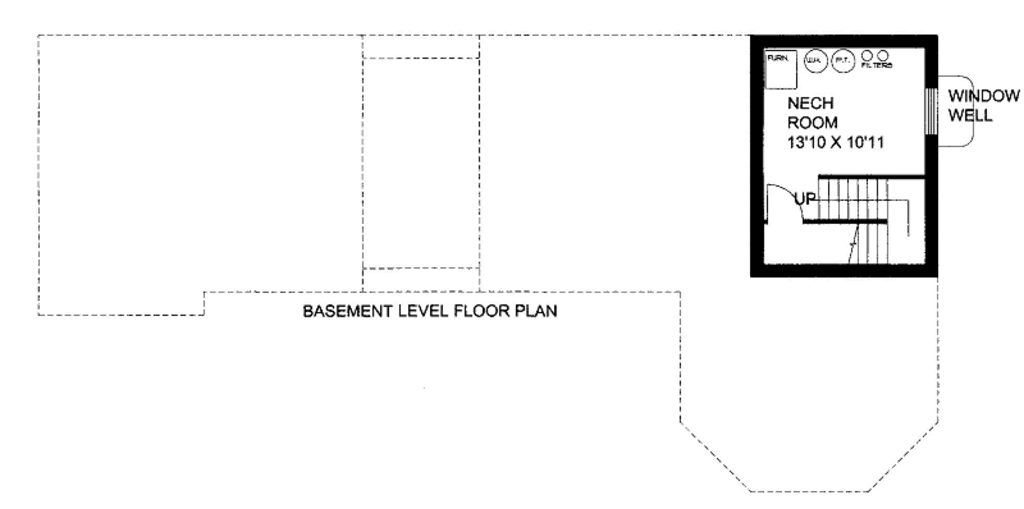door: (760, 179, 819, 232)
stairs: (808, 171, 929, 266)
window: (909, 83, 954, 143)
